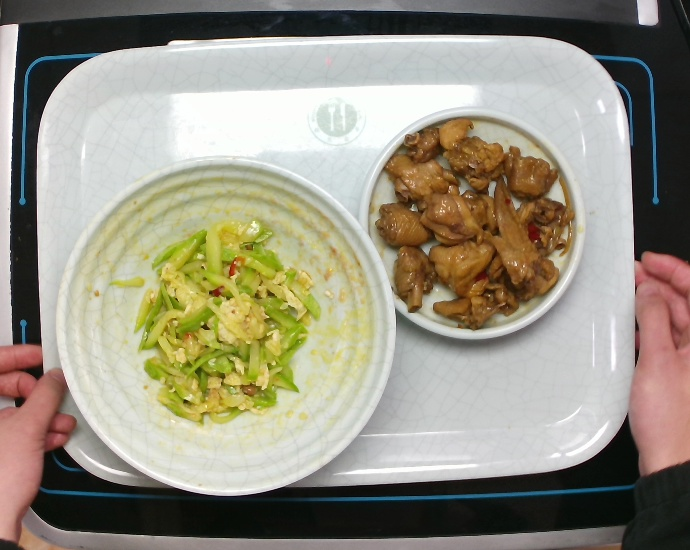JYsf-Da_Tang_Wan: (53, 152, 400, 498)
JYsf-Xiao_Yuan_Pan: (356, 103, 589, 342)
